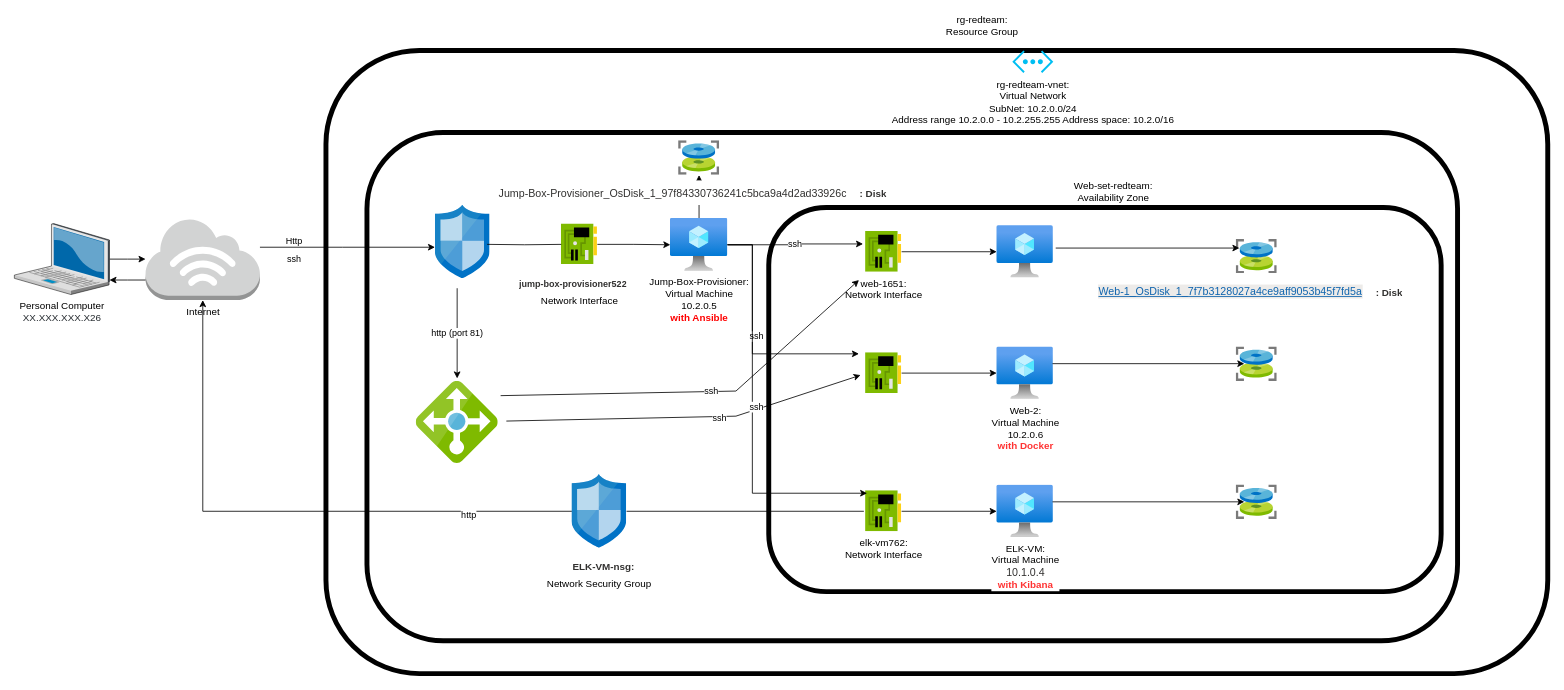
Image size: 1564x690. Some labels were removed from this diagram. The box of each missing label's shape, as (x1, y1, x2, y2) in pixels:
ELK-VM_disk1_1143bd85250144549220b402604a137e : Disk: (1236, 485, 1277, 519)
nsg-redteam: Network Security Group: (435, 205, 490, 278)
readteam-lb2: Load balancer: (416, 381, 498, 463)
Web-1: Virtual Machine 10.2.0.7 with Docker: (996, 225, 1053, 278)
web-2906: Network Interface: (865, 352, 901, 393)
Web-2_OsDisk_1_33c158354f7a4af58821ce0517eabf3 : Disk: (1236, 346, 1277, 381)
